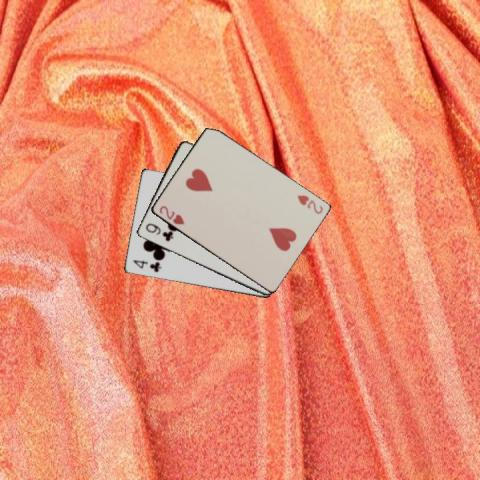2h: (294, 192, 324, 215), (156, 203, 185, 226)
4c: (129, 257, 163, 274)
9c: (142, 221, 175, 243)
